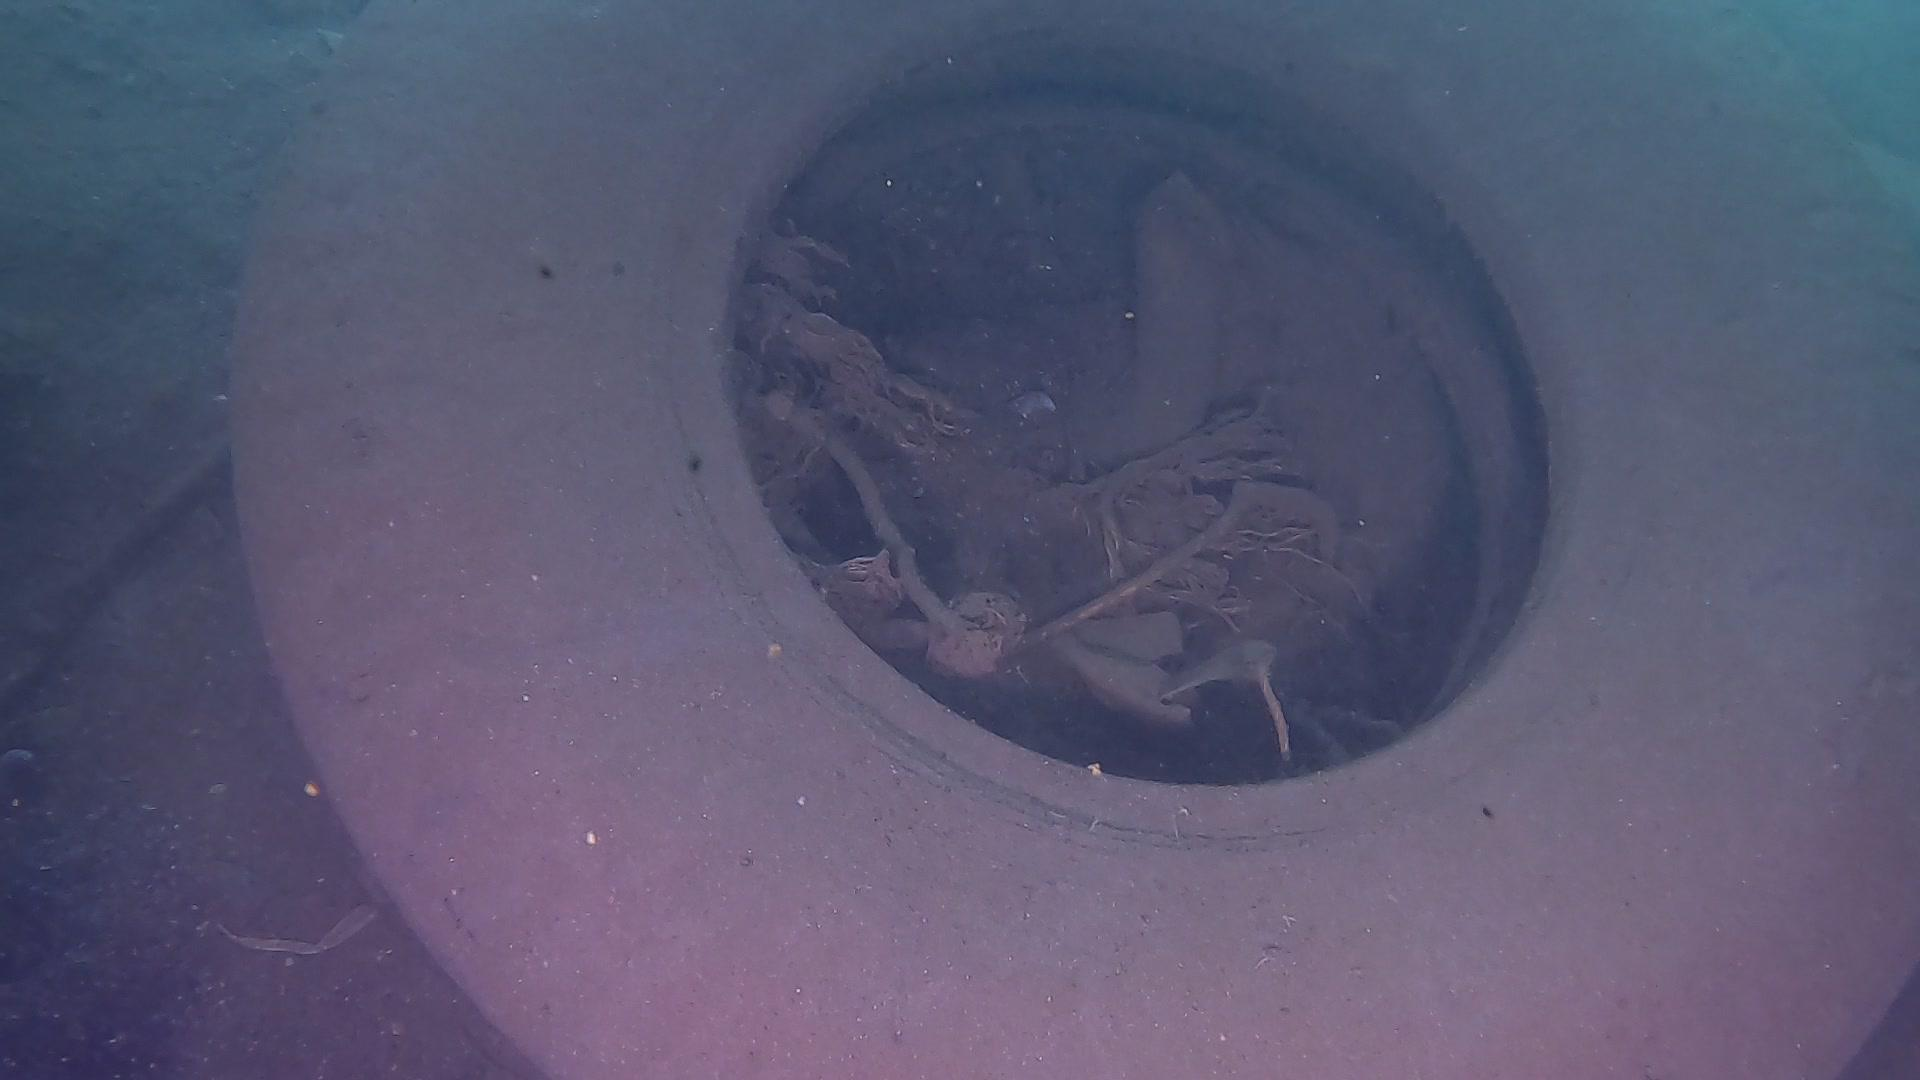tire: (225, 7, 1920, 1080)
